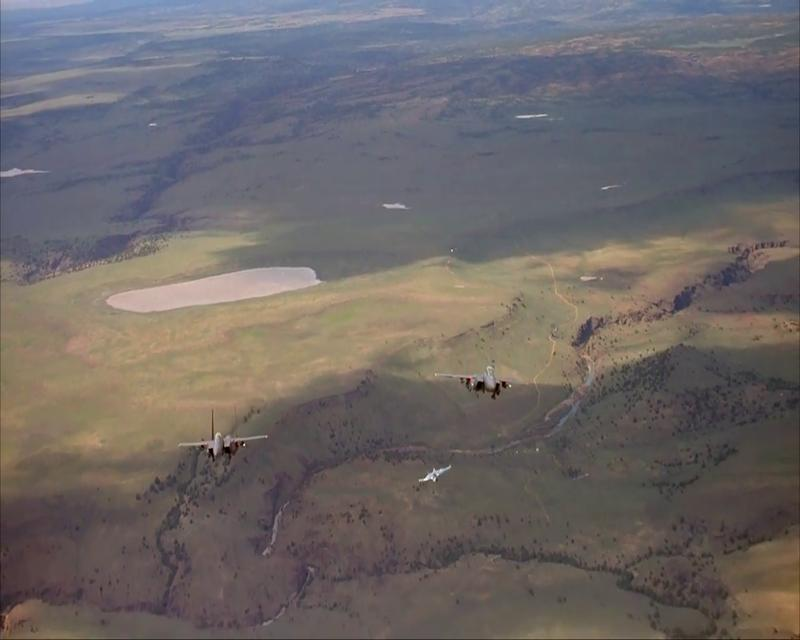UAV: (177, 406, 268, 463), (435, 359, 531, 402), (414, 464, 456, 484)
